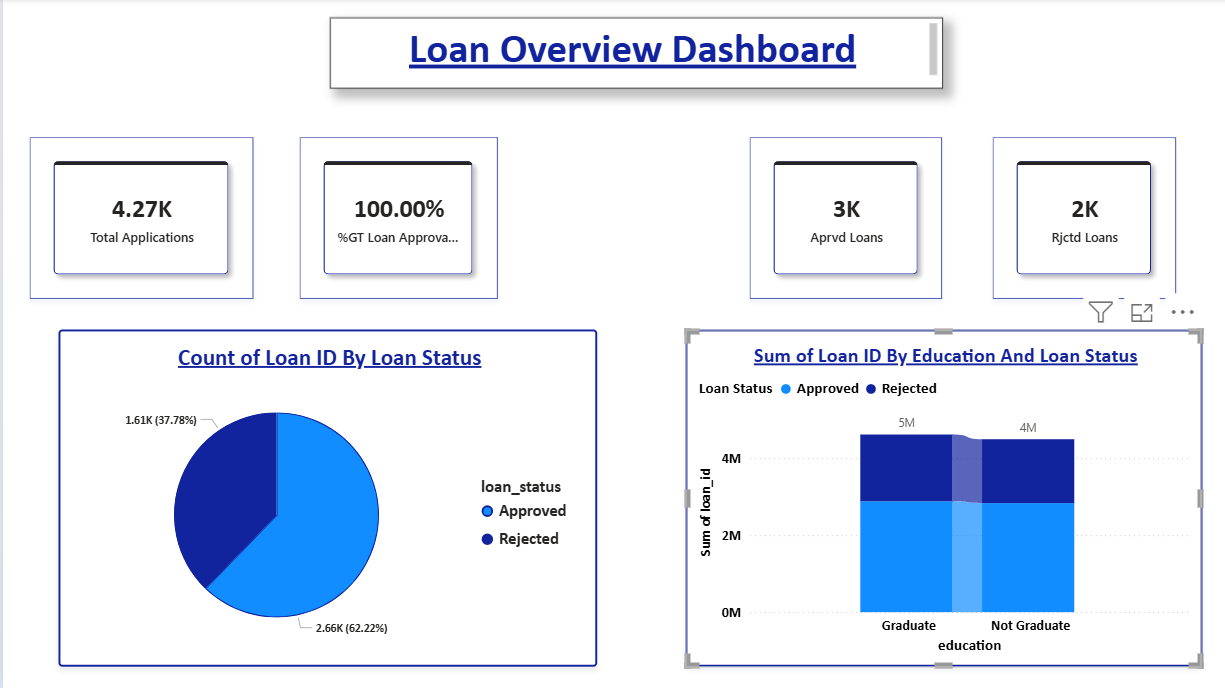

This screenshot's page, from the dashboard's own definition file:
{"tool":"powerbi","page":{"name":"Page 1","canvas":[1280,720],"ordinal":0},"visuals":[{"type":"cardVisual","fields":{"Data":["cleaned_loan_data.Total Applications"]},"box":[28.3,145.5,232.4,168.2],"z":0},{"type":"cardVisual","fields":{"Data":["cleaned_loan_data.Aprvd Loans"]},"box":[778.6,145.5,200.3,168.2],"z":1000},{"type":"cardVisual","fields":{"Data":["cleaned_loan_data.Rjctd Loans"]},"box":[1031.8,145.5,190.9,168.2],"z":2000},{"type":"cardVisual","fields":{"Data":["cleaned_loan_data.Loan Approval Rate"]},"box":[309.9,145.5,206,168.2],"z":3000},{"type":"pieChart","title":"Count of Loan ID By Loan Status","fields":{"Category":["cleaned_loan_data.loan_status"],"Y":["CountNonNull(cleaned_loan_data.loan_id)"]},"box":[58.6,345.8,561.3,351.5],"z":4000},{"type":"columnChart","title":"Sum of Loan ID By Education And Loan Status","fields":{"Category":["cleaned_loan_data.education"],"Series":["cleaned_loan_data.loan_status"],"Y":["Sum(cleaned_loan_data.loan_id)"]},"box":[710.6,345.8,538.6,351.5],"z":5000},{"type":"textbox","box":[340.2,20.8,638.7,73.7],"z":5001}]}

Visuals, with their boxes in screenshot pixels (x1, y1, x2, y2), scaled from the page's 1280x720 canvas onto the 1225x688 screenshot:
cardVisual - cleaned_loan_data.Total Applications: l=27, t=139, r=249, b=300
cardVisual - cleaned_loan_data.Aprvd Loans: l=745, t=139, r=937, b=300
cardVisual - cleaned_loan_data.Rjctd Loans: l=987, t=139, r=1170, b=300
cardVisual - cleaned_loan_data.Loan Approval Rate: l=297, t=139, r=494, b=300
"Count of Loan ID By Loan Status" pieChart: l=56, t=330, r=593, b=666
"Sum of Loan ID By Education And Loan Status" columnChart: l=680, t=330, r=1196, b=666
textbox: l=326, t=20, r=937, b=90
